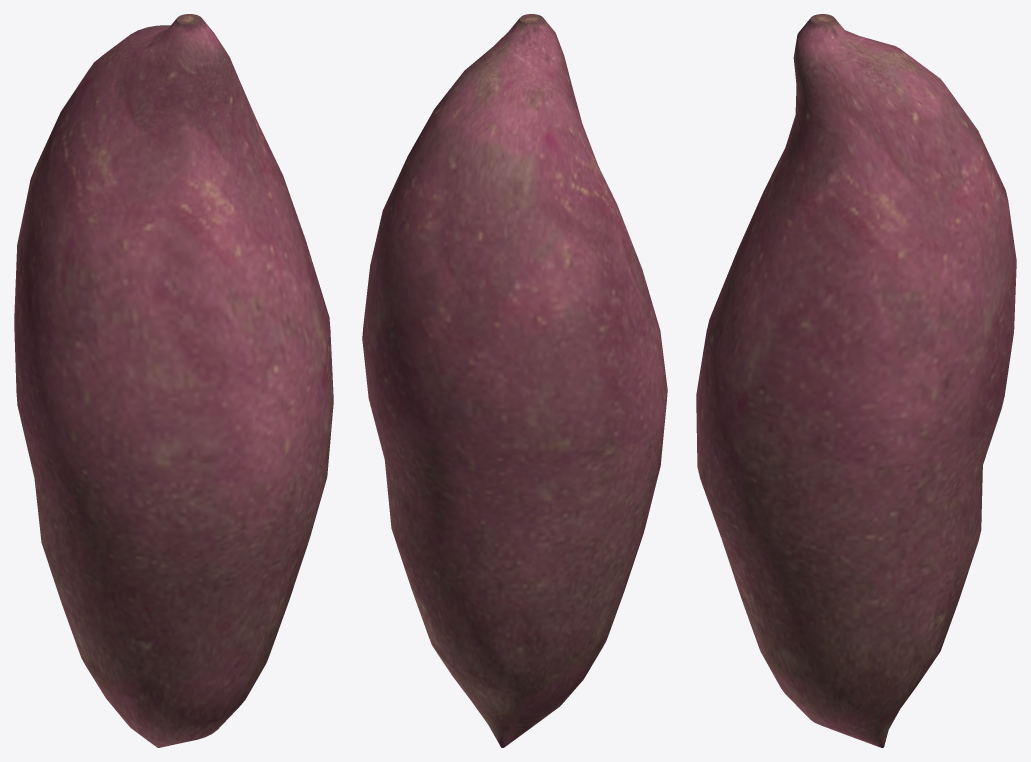
The model's file is sweet_potato.glb.glb.
The picture shows the model from 3 angles, left to right: view 1: azimuth 30°, elevation 25°; view 2: azimuth 150°, elevation 25°; view 3: azimuth 270°, elevation 25°; orthographic projection. The views are drawn at different scales.
Parts seen in each view (by area): view 1: SM_Sweet_Potato; view 2: SM_Sweet_Potato; view 3: SM_Sweet_Potato.
Part boxes in pixels (bbox=[...]): SM_Sweet_Potato: bbox=[14, 14, 333, 747]; SM_Sweet_Potato: bbox=[362, 14, 667, 747]; SM_Sweet_Potato: bbox=[696, 14, 1016, 747].
Size of the model in its own units: 0.0321 by 0.0829 by 0.0331.
1 material, 1 textured.
